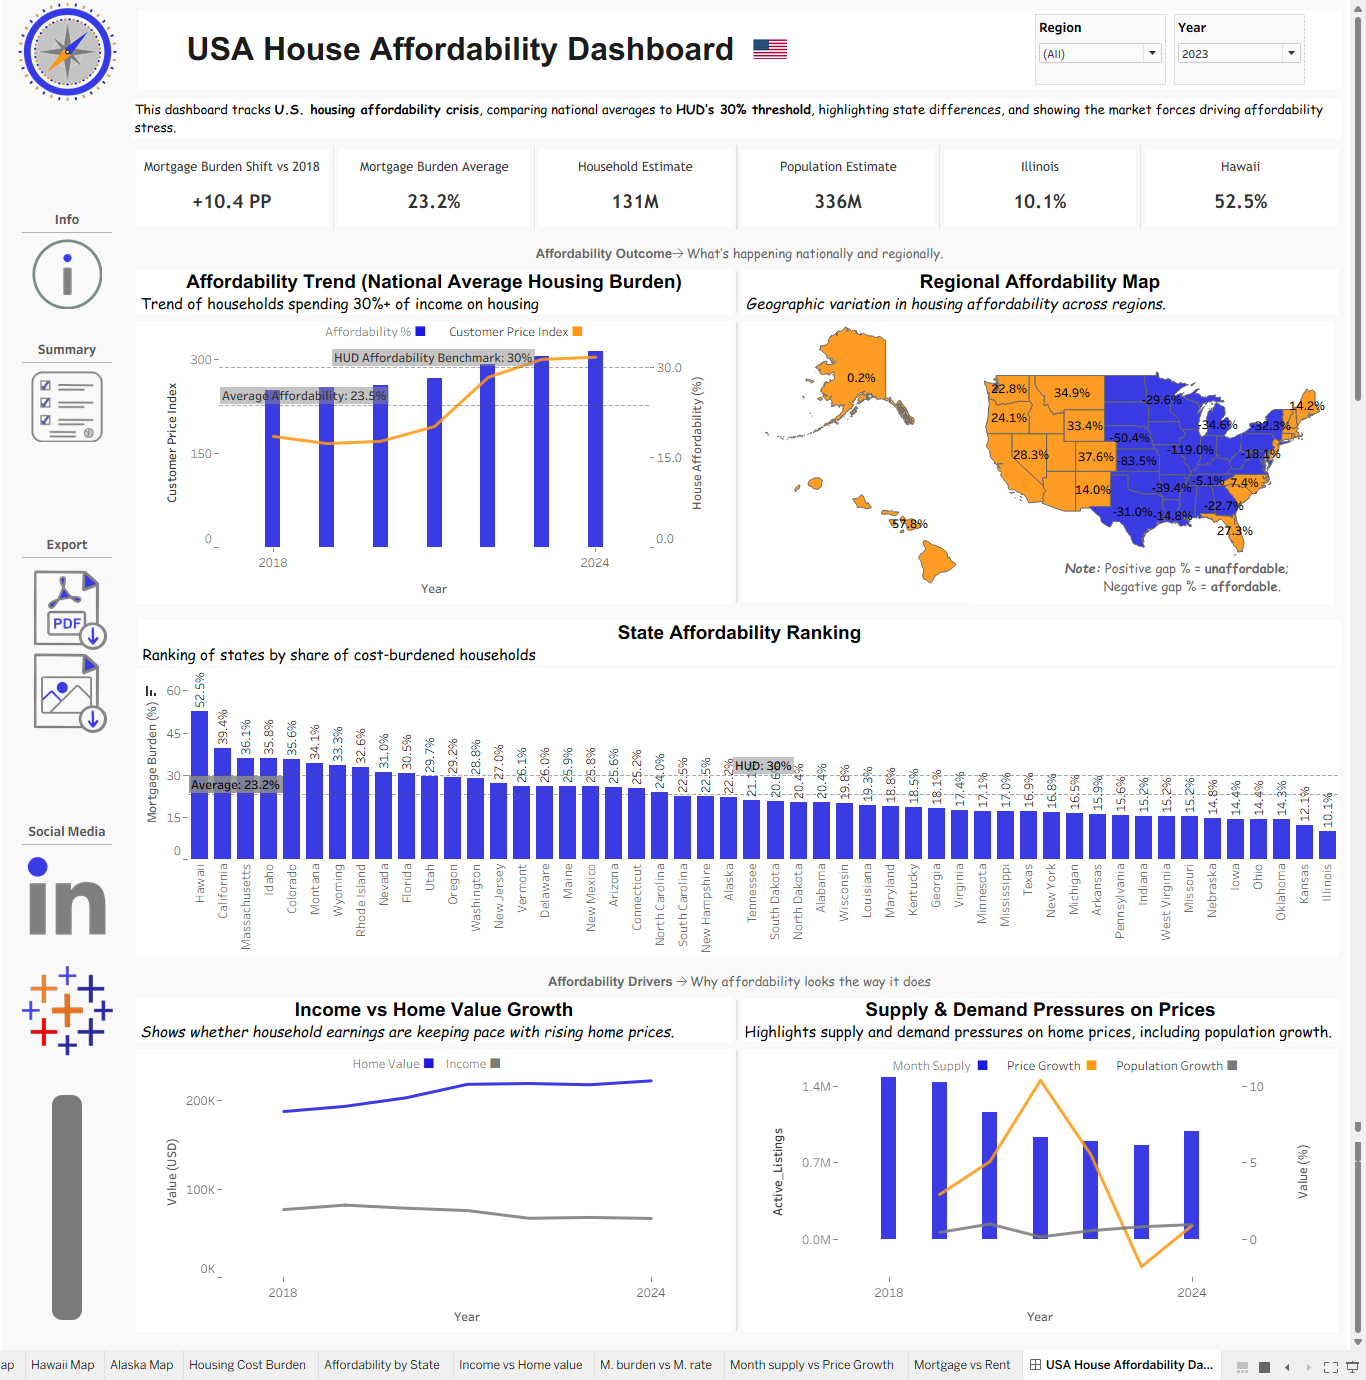

What the dashboard file says about the page in this screenshot:
{"tool":"tableau","page":{"name":"USA House Affordability Dashboard","canvas":[1345,1350],"ordinal":0},"visuals":[{"type":"image","param":"Image/Icon - Logo3.png","box":[0,0,130,103]},{"type":"blank","box":[130,0,1215,10]},{"type":"blank","box":[136,10,10,79]},{"type":"blank","box":[146,10,32,79]},{"type":"text","box":[178,10,565,79]},{"type":"image","param":"Image/usa flag.jpg","box":[743,10,50,79]},{"type":"blank","box":[793,10,236,79]},{"type":"filter","title":" Choropleth Map","param":"[federated.06v4nug0psklrs174fi73100x5d9].[none:Calculation_185210581622841348:nk","box":[1029,10,139,79]},{"type":"filter","title":" Choropleth Map","param":"[federated.06v4nug0psklrs174fi73100x5d9].[none:Year:ok]","box":[1168,10,139,79]},{"type":"blank","box":[1307,10,32,79]},{"type":"blank","box":[130,89,1215,10]},{"type":"text","box":[130,90,1221,648]},{"type":"text","box":[129,98,1217,658]},{"type":"text","box":[130,99,1215,40]},{"type":"blank","box":[0,103,130,103]},{"type":"blank","box":[130,139,1215,6]},{"type":"worksheet","title":"Affordablility since 2018","mark":"Automatic","box":[130,145,200.7,85]},{"type":"blank","box":[330.7,145,1,85]},{"type":"worksheet","title":"Average Affordable","mark":"Automatic","box":[331.7,145,200.7,85]},{"type":"blank","box":[532.3,145,1,85]},{"type":"worksheet","title":"Household Estimate","mark":"Automatic","box":[533.3,145,200.7,85]},{"type":"blank","box":[734,145,2,85]},{"type":"worksheet","title":"Population Estimate","mark":"Automatic","box":[736,145,200.7,85]},{"type":"blank","box":[936.6,145,1,85]},{"type":"worksheet","title":"Best Affordable","mark":"Automatic","box":[937.6,145,200.7,85]},{"type":"blank","box":[1138.3,145,1,85]},{"type":"worksheet","title":"Worst Affordable","mark":"Automatic","box":[1139.3,145,200.7,85]},{"type":"blank","box":[1339.9,145,5.1,85]},{"type":"text","box":[0,206,130,26]},{"type":"blank","box":[130,230,1215,10]},{"type":"blank","box":[0,232,130,1]},{"type":"dashboard-object","box":[0,233,130,83.1]},{"type":"text","box":[130,240,1215,27]},{"type":"text","box":[130,267,604,50]},{"type":"blank","box":[734,267,2,50]},{"type":"text","box":[736,267,604,50]},{"type":"blank","box":[1340,267,5,50]},{"type":"blank","box":[0,316.1,130,20]},{"type":"worksheet","title":"Housing Cost Burden","mark":"Line","rows":["Average_CPI","Affordability_pct"],"cols":["Year"],"box":[130,317,604,290.7]},{"type":"text","box":[318,317,269,25]},{"type":"blank","box":[734,317,2,290.7]},{"type":"worksheet","title":"Alaska Map","mark":"Multipolygon","box":[736,317,232,145.3]},{"type":"worksheet","title":" Choropleth Map","mark":"Multipolygon","box":[968,317,368,290.7]},{"type":"blank","box":[1336,317,5,290.7]},{"type":"text","box":[0,336.1,130,26]},{"type":"blank","box":[0,362.1,130,1]},{"type":"blank","box":[0,363.1,130,2]},{"type":"dashboard-object","box":[0,365.1,130,83.1]},{"type":"blank","box":[0,448.2,130,83.1]},{"type":"worksheet","title":"Hawaii Map","mark":"Multipolygon","box":[736,462.3,232,145.3]},{"type":"text","box":[0,531.4,130,26]},{"type":"blank","box":[0,557.4,130,1]},{"type":"blank","box":[0,558.4,130,10]},{"type":"text","box":[1060,559,267,38]},{"type":"dashboard-object","box":[0,568.4,130,83.1]},{"type":"blank","box":[130,607.7,1215,10]},{"type":"text","box":[130,617.7,1215,50]},{"type":"dashboard-object","box":[0,651.5,130,83.1]},{"type":"worksheet","title":"Affordability by State","mark":"Bar","rows":["Mortgage_Burden_pct"],"cols":["State_Name"],"box":[130,667.7,1215,290.7]},{"type":"blank","box":[0,734.6,130,83.1]},{"type":"text","box":[0,817.7,130,26]},{"type":"blank","box":[0,843.7,130,1]},{"type":"blank","box":[0,844.7,130,10]},{"type":"image","param":"Image/contact-linkedin.png","box":[0,854.7,130,83.1]},{"type":"blank","box":[0,937.8,130,20]},{"type":"image","param":"Image/contact-public.png","box":[0,957.9,130,107.1]},{"type":"blank","box":[130,958.3,1215,10]},{"type":"text","box":[130,968.3,1215,27]},{"type":"text","box":[130,995.3,604,50]},{"type":"blank","box":[734,995.3,2,50]},{"type":"text","box":[736,995.3,603,50]},{"type":"worksheet","title":"Income vs Home value","mark":"Line","cols":["Year"],"box":[130,1045.3,604,290.7]},{"type":"blank","box":[734,1045.3,2,290.7]},{"type":"worksheet","title":"Month supply vs Price Growth","mark":"Automatic","rows":["Active_Listings"],"cols":["Year"],"box":[736,1045.3,604,290.7]},{"type":"text","box":[348,1046,155,26]},{"type":"text","box":[888,1046,366,30]},{"type":"blank","box":[0,1065,130,265]},{"type":"blank","box":[0,1330,130,20]},{"type":"blank","box":[130,1336,1215,14]}]}

Visuals, with their boxes on the page's 1345x1350 design canvas (x1, y1, x2, y2). These are canvas units, not pixel positions in the 1366x1380 screenshot, which may show the page scaled, cropped or inside an application window:
image: 0 0 130 103
blank: 130 0 1345 10
blank: 136 10 146 89
blank: 146 10 178 89
text: 178 10 743 89
image: 743 10 793 89
blank: 793 10 1029 89
" Choropleth Map" filter: 1029 10 1168 89
" Choropleth Map" filter: 1168 10 1307 89
blank: 1307 10 1339 89
blank: 130 89 1345 99
text: 130 90 1351 738
text: 129 98 1346 756
text: 130 99 1345 139
blank: 0 103 130 206
blank: 130 139 1345 145
"Affordablility since 2018" worksheet: 130 145 331 230
blank: 331 145 332 230
"Average Affordable" worksheet: 332 145 532 230
blank: 532 145 533 230
"Household Estimate" worksheet: 533 145 734 230
blank: 734 145 736 230
"Population Estimate" worksheet: 736 145 937 230
blank: 937 145 938 230
"Best Affordable" worksheet: 938 145 1138 230
blank: 1138 145 1139 230
"Worst Affordable" worksheet: 1139 145 1340 230
blank: 1340 145 1345 230
text: 0 206 130 232
blank: 130 230 1345 240
blank: 0 232 130 233
dashboard-object: 0 233 130 316
text: 130 240 1345 267
text: 130 267 734 317
blank: 734 267 736 317
text: 736 267 1340 317
blank: 1340 267 1345 317
blank: 0 316 130 336
"Housing Cost Burden" worksheet (Line marks): 130 317 734 608
text: 318 317 587 342
blank: 734 317 736 608
"Alaska Map" worksheet (Multipolygon marks): 736 317 968 462
" Choropleth Map" worksheet (Multipolygon marks): 968 317 1336 608
blank: 1336 317 1341 608
text: 0 336 130 362
blank: 0 362 130 363
blank: 0 363 130 365
dashboard-object: 0 365 130 448
blank: 0 448 130 531
"Hawaii Map" worksheet (Multipolygon marks): 736 462 968 608
text: 0 531 130 557
blank: 0 557 130 558
blank: 0 558 130 568
text: 1060 559 1327 597
dashboard-object: 0 568 130 652
blank: 130 608 1345 618
text: 130 618 1345 668
dashboard-object: 0 652 130 735
"Affordability by State" worksheet (Bar marks): 130 668 1345 958
blank: 0 735 130 818
text: 0 818 130 844
blank: 0 844 130 845
blank: 0 845 130 855
image: 0 855 130 938
blank: 0 938 130 958
image: 0 958 130 1065
blank: 130 958 1345 968
text: 130 968 1345 995
text: 130 995 734 1045
blank: 734 995 736 1045
text: 736 995 1339 1045
"Income vs Home value" worksheet (Line marks): 130 1045 734 1336
blank: 734 1045 736 1336
"Month supply vs Price Growth" worksheet: 736 1045 1340 1336
text: 348 1046 503 1072
text: 888 1046 1254 1076
blank: 0 1065 130 1330
blank: 0 1330 130 1350
blank: 130 1336 1345 1350
